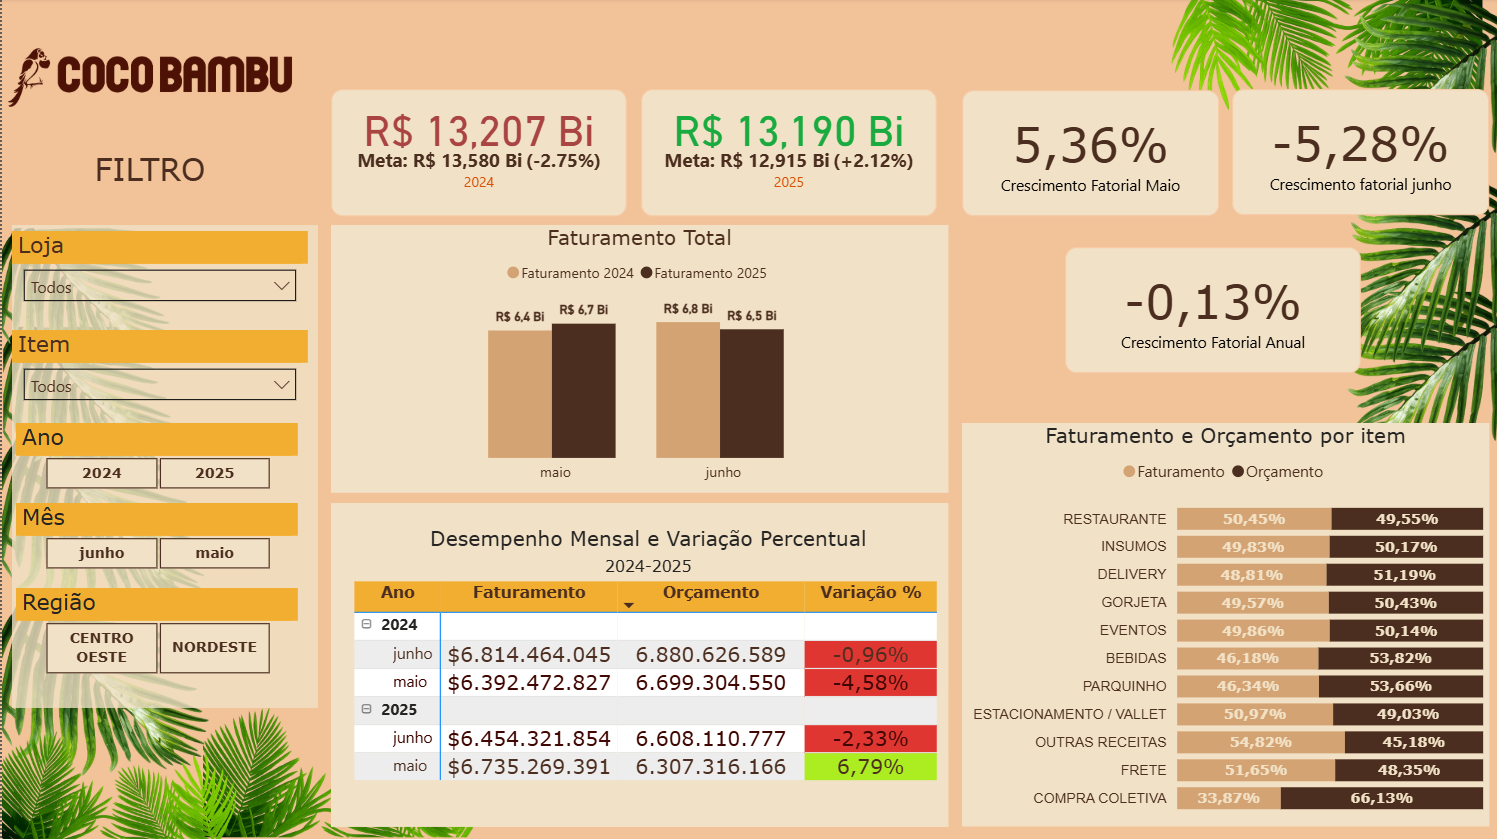

This screenshot's page, from the dashboard's own definition file:
{"tool":"powerbi","page":{"name":"Página 3","canvas":[1280,720],"ordinal":3},"visuals":[{"type":"shape","box":[0,194.1,270.2,525.9],"z":0},{"type":"kpi","title":"2025","fields":{"TrendLine":["calendario.Ano"],"Indicator":["fato.faturamento total 2025"],"Goal":["fato.Orçamento total 2025"]},"box":[546.4,77.8,253.1,108.6],"z":1000},{"type":"kpi","title":"2024","fields":{"Goal":["fato.Orçamento total 2024"],"Indicator":["fato.faturamento total 2024"],"TrendLine":["calendario.Ano"]},"box":[281.3,77.8,253.1,108.6],"z":2000},{"type":"slicer","fields":{"Values":["calendario.Mes"]},"box":[12,520.8,241.1,49.6],"z":3000},{"type":"slicer","fields":{"Values":["calendario.Ano"]},"box":[14.5,457.5,241.1,49.6],"z":4000},{"type":"slicer","fields":{"Values":["lojas.loja"]},"box":[8.6,199.2,253.1,77],"z":5000},{"type":"slicer","fields":{"Values":["campos.item"]},"box":[8.6,283.9,253.1,79.5],"z":6000},{"type":"slicer","fields":{"Values":["lojas.regiao"]},"box":[14.5,382.2,241.1,59.9],"z":7000},{"type":"clusteredColumnChart","title":"Faturamento Total","fields":{"Y":["fato.faturamento total 2024","fato.faturamento total 2025"],"Category":["calendario.Datas.Variation.Hierarquia de datas.Mês"]},"box":[281.3,194.1,518.2,229.2],"z":8000},{"type":"pivotTable","fields":{"Values":["Sum(fato.valor)","Sum(fato.valor_orcado)","fato.Variação %"],"Rows":["calendario.Datas.Variation.Hierarquia de datas.Ano","calendario.Datas.Variation.Hierarquia de datas.Mês"]},"box":[281.3,431.8,518.2,277.1],"z":9000},{"type":"hundredPercentStackedBarChart","fields":{"Y":["Sum(fato.valor)","Sum(fato.valor_orcado)"],"Category":["campos.item"]},"box":[808.9,363.4,462.6,345.5],"z":10000},{"type":"card","fields":{"Values":["fato.% Crescimento Fatorial Maio"]},"box":[820.9,78.7,219.8,108],"z":11000},{"type":"card","fields":{"Values":["fato.% Crescimento fatorial junho"]},"box":[1051.8,77.8,219.8,108],"z":12000},{"type":"card","fields":{"Values":["fato.% Crescimento fatorial anual"]},"box":[909,212.9,253.1,107.7],"z":13000},{"type":"image","box":[0,0,253.1,135.1],"z":14000},{"type":"textbox","box":[58.1,124.8,136.8,69.3],"z":15000}]}

Visuals, with their boxes in screenshot pixels (x1, y1, x2, y2), scaled from the page's 1280x720 canvas onto the 1497x839 screenshot:
shape: (0, 226, 316, 838)
"2025" kpi: (639, 91, 935, 217)
"2024" kpi: (329, 91, 625, 217)
slicer - calendario.Mes: (14, 607, 296, 665)
slicer - calendario.Ano: (17, 533, 299, 591)
slicer - lojas.loja: (10, 232, 306, 322)
slicer - campos.item: (10, 331, 306, 423)
slicer - lojas.regiao: (17, 445, 299, 515)
"Faturamento Total" clusteredColumnChart: (329, 226, 935, 493)
pivotTable - Sum(fato.valor) x Sum(fato.valor_orcado): (329, 503, 935, 826)
hundredPercentStackedBarChart - Sum(fato.valor) x Sum(fato.valor_orcado): (946, 423, 1487, 826)
card - fato.% Crescimento Fatorial Maio: (960, 92, 1217, 218)
card - fato.% Crescimento fatorial junho: (1230, 91, 1487, 217)
card - fato.% Crescimento fatorial anual: (1063, 248, 1359, 374)
image: (0, 0, 296, 157)
textbox: (68, 145, 228, 226)
